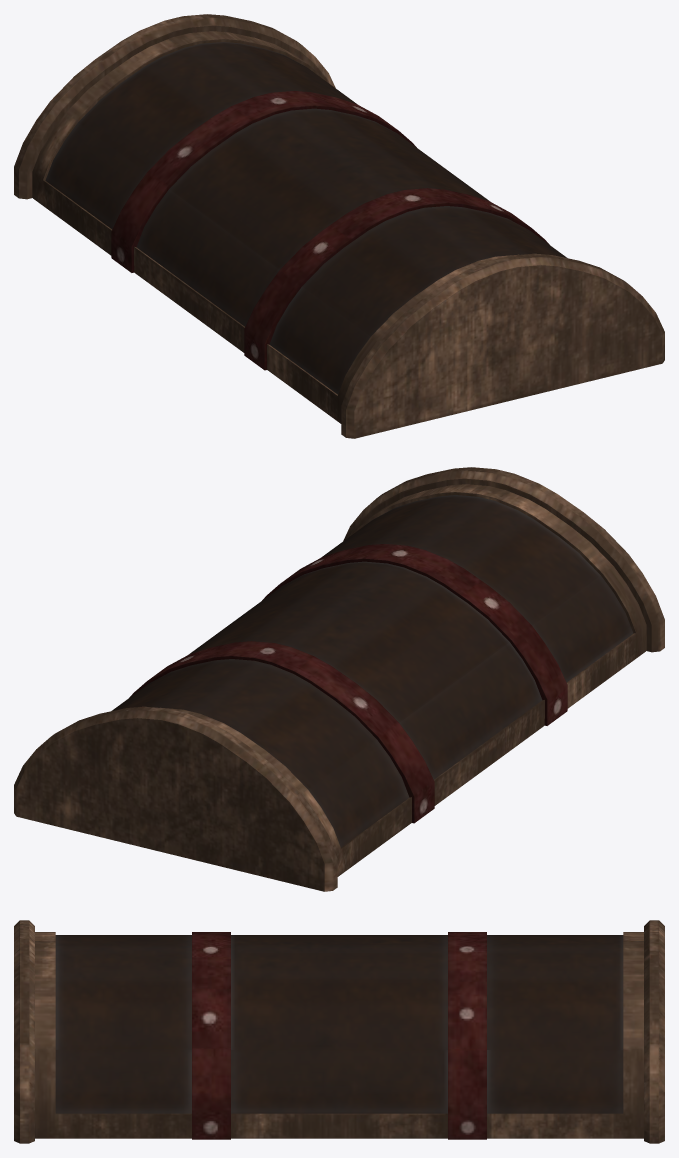
File: ChestLid.gltf.glb
The picture shows the model from 3 angles, top to bottom: view 1: azimuth 30°, elevation 25°; view 2: azimuth 150°, elevation 25°; view 3: azimuth 270°, elevation 25°; orthographic projection. The views are drawn at different scales.
Parts seen in each view (by area): view 1: TreasureChest.001; view 2: TreasureChest.001; view 3: TreasureChest.001.
Boxes of the visible parts, left/top/right/bottom form: TreasureChest.001: left=14, top=14, right=664, bottom=438; TreasureChest.001: left=14, top=467, right=664, bottom=891; TreasureChest.001: left=14, top=920, right=664, bottom=1143.
Size of what is drawn, in the model's own units: 0.7958 by 0.3278 by 1.46.
Materials: 3 (3 with a texture image).
